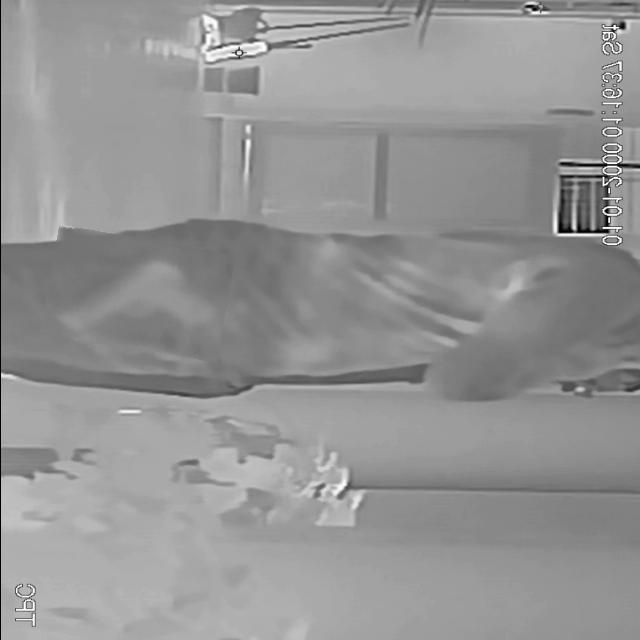Weapon: (44, 232, 231, 356)
